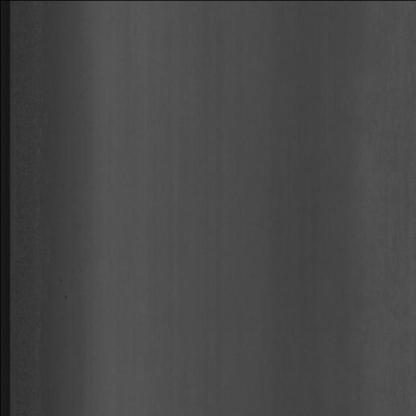silk_spot: (374, 13, 416, 336)
